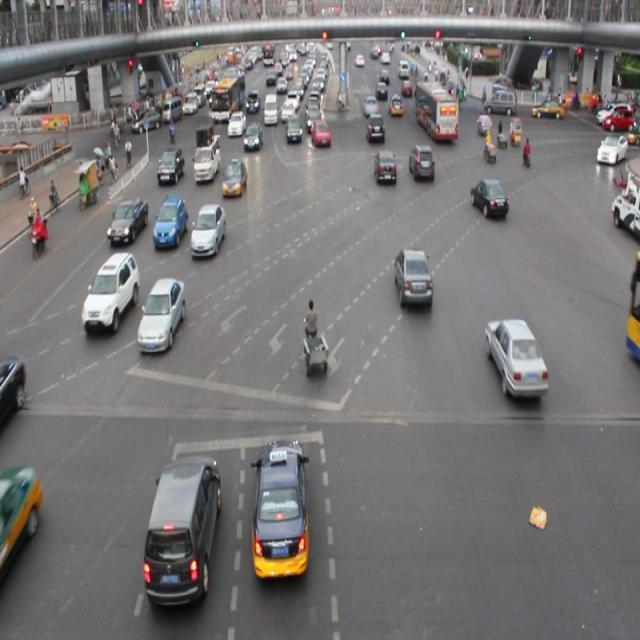car: (252, 440, 310, 580), (484, 320, 546, 398), (82, 253, 139, 335), (1, 466, 44, 573), (138, 278, 186, 351), (395, 247, 432, 308), (190, 203, 224, 257), (109, 197, 148, 244), (153, 196, 187, 248), (1, 358, 25, 428), (470, 180, 508, 218), (409, 143, 434, 183), (158, 146, 184, 182), (374, 147, 397, 186), (222, 160, 245, 198), (365, 111, 385, 145), (310, 117, 331, 148), (227, 109, 245, 141), (243, 123, 261, 154), (284, 115, 300, 145)
truck: (146, 456, 220, 606), (193, 127, 220, 181)
van: (416, 80, 457, 139), (624, 265, 640, 373)
